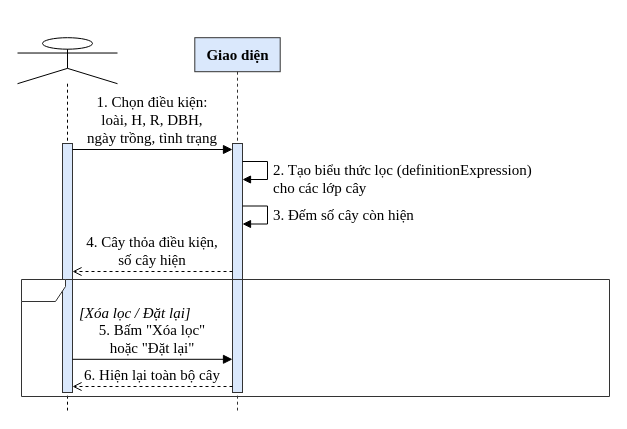
This 627x429 diagram has some shape labels left out. Each missing label, with the box of its shape:
Người dùng: (16, 37, 118, 410)
opt: (20, 278, 610, 396)
